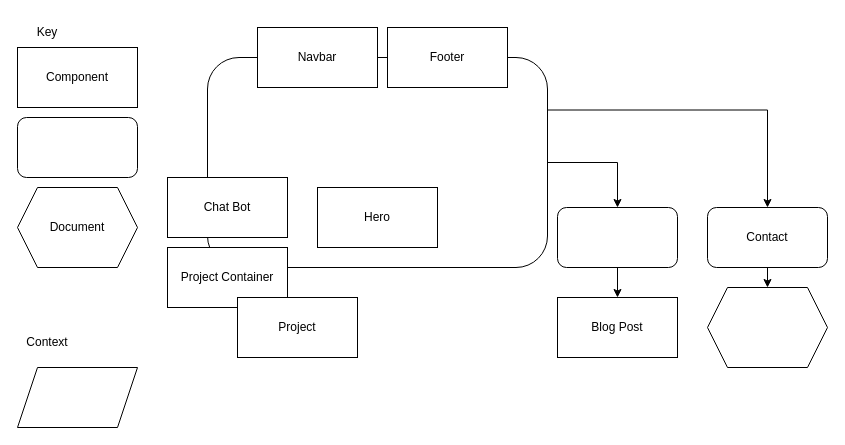
Image size: 845x445. Some labels were removed from this diagram. The shapes that lost their labels are listed below. From the top down, each one's box as (x1, y1, x2, y2) in pixels, then its label:
(16, 116, 138, 178): Page
(206, 56, 548, 268): App
(556, 206, 678, 268): Blog
(706, 286, 828, 368): Downloadable CV
(16, 366, 138, 428): Theme Light/Dark Dynamic
